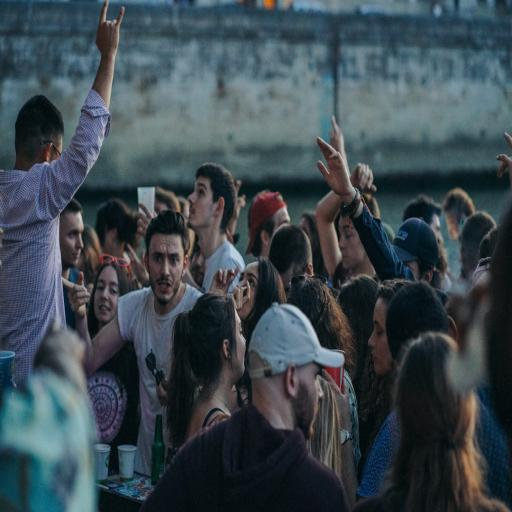face: (148, 230, 182, 299), (366, 308, 390, 376), (92, 270, 120, 322), (307, 357, 324, 439), (336, 217, 359, 273), (186, 174, 209, 230), (62, 219, 86, 270), (232, 308, 249, 378)
